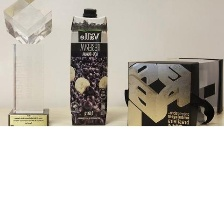carton: (68, 6, 112, 127)
